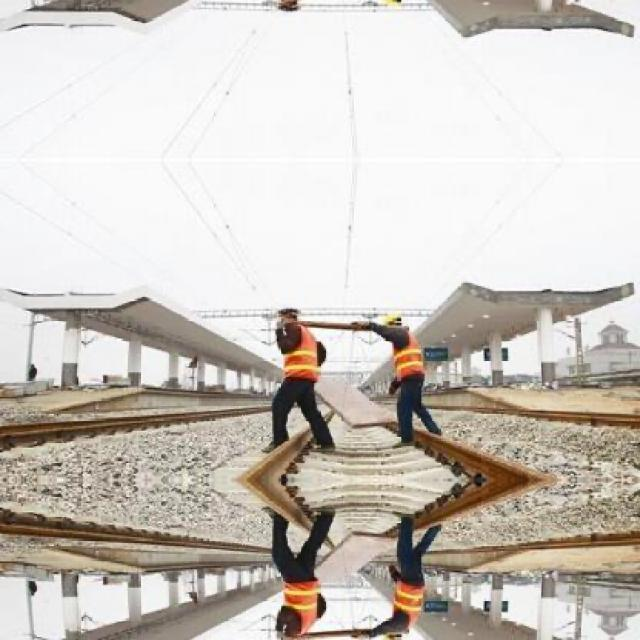reflective_jacket: (269, 323, 327, 390), (383, 331, 432, 391)
safety_helmet: (266, 287, 312, 323), (375, 304, 412, 330)
